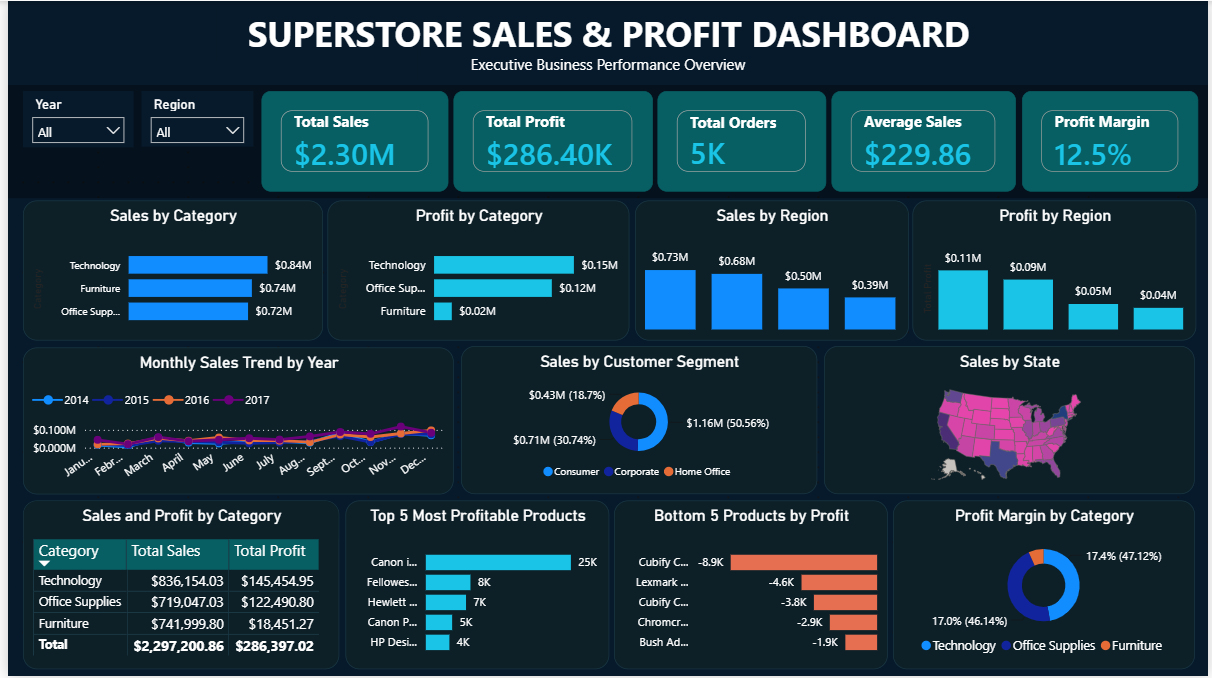

The page's visual inventory and layout, read from the dashboard file:
{"tool":"powerbi","page":{"name":"Sales and Profit Dashboard","canvas":[1280,720],"ordinal":0},"visuals":[{"type":"shape","box":[0,1.4,1279.7,97.3],"z":0},{"type":"shape","box":[0,89.3,1280,120.6],"z":1000},{"type":"cardVisual","fields":{"Data":["Sample - Superstore.Total Sales"]},"box":[270.2,95.3,199.1,107.4],"z":2000},{"type":"cardVisual","fields":{"Data":["Sample - Superstore.Total Orders"]},"box":[692.5,95.3,179.8,107.4],"z":3000},{"type":"cardVisual","fields":{"Data":["Sample - Superstore.Average Sales"]},"box":[878.3,95.3,196.6,107.4],"z":4000},{"type":"cardVisual","fields":{"Data":["Sample - Superstore.Profit Margin"]},"box":[1080,98,188.2,107.4],"z":5000},{"type":"cardVisual","fields":{"Data":["Sample - Superstore.Total Profit"]},"box":[475.3,95.3,212.3,107.4],"z":6000},{"type":"clusteredBarChart","title":"Sales by Category","fields":{"Category":["Sample - Superstore.Category"],"Y":["Sample - Superstore.Total Sales"]},"box":[15.7,213.5,319.7,149.6],"z":7000},{"type":"clusteredBarChart","title":"Profit by Category","fields":{"Category":["Sample - Superstore.Category"],"Y":["Sample - Superstore.Total Profit"]},"box":[340.2,213.5,322.1,149.6],"z":8000},{"type":"clusteredColumnChart","title":"Sales by Region","fields":{"Category":["Sample - Superstore.Region"],"Y":["Sample - Superstore.Total Sales"]},"box":[668.4,212.3,292,149.6],"z":9000},{"type":"clusteredColumnChart","title":"Profit by Region","fields":{"Category":["Sample - Superstore.Region"],"Y":["Sample - Superstore.Total Profit"]},"box":[965.2,213.5,302.8,149.6],"z":10000},{"type":"lineChart","title":"Monthly Sales Trend by Year","fields":{"Y":["Sample - Superstore.Total Sales"],"Series":["Sample - Superstore.Year"],"Category":["Sample - Superstore.Month Name"]},"box":[15.7,369.2,459.7,156.8],"z":11000},{"type":"donutChart","title":"Sales by Customer Segment","fields":{"Category":["Sample - Superstore.Segment"],"Y":["Sample - Superstore.Total Sales"]},"box":[482.8,368.8,379.7,157.8],"z":12000},{"type":"shapeMap","title":"Sales by State","fields":{"Category":["Sample - Superstore.State"],"Value":["Sample - Superstore.Total Sales"]},"box":[870.3,368.8,395.3,157.8],"z":13000},{"type":"pivotTable","title":"Sales and Profit by Category","fields":{"Rows":["Sample - Superstore.Category"],"Values":["Sample - Superstore.Total Sales","Sample - Superstore.Total Profit"]},"box":[15.6,532.8,337.5,179.7],"z":14000},{"type":"slicer","title":"Year","fields":{"Values":["Dates.Year"]},"box":[15.7,95.3,118.2,60.3],"z":15000},{"type":"textbox","title":"SUPERSTORE SALES & PROFIT DASHBOARD","box":[221.6,2.7,836.5,62.2],"z":16000},{"type":"textbox","title":"Executive Business Performance Overview | 2014–2017","box":[436.7,51.9,406.6,33.8],"z":17000},{"type":"slicer","fields":{"Values":["Sample - Superstore.Region"]},"box":[142.4,95.3,119.4,59.1],"z":18000},{"type":"clusteredBarChart","title":"Top 5 Most Profitable Products","fields":{"Category":["Sample - Superstore.Product Name"],"Y":["Sum(Sample - Superstore.Profit)"]},"box":[359.4,532.8,281.3,179.7],"z":19000},{"type":"clusteredBarChart","title":"Bottom 5 Products by Profit","fields":{"Category":["Sample - Superstore.Product Name"],"Y":["Sum(Sample - Superstore.Profit)"]},"box":[646.9,532.8,292.2,179.7],"z":20000},{"type":"donutChart","fields":{"Category":["Sample - Superstore.Category"],"Y":["Sample - Superstore.Profit Margin"]},"box":[943.8,532.8,321.9,179.7],"z":21000}]}

Visuals, with their boxes in screenshot pixels (x1, y1, x2, y2), scaled from the page's 1280x720 canvas onto the 1212x678 screenshot:
shape: bbox=[0, 1, 1211, 93]
shape: bbox=[0, 84, 1211, 198]
cardVisual - Sample - Superstore.Total Sales: bbox=[256, 90, 444, 191]
cardVisual - Sample - Superstore.Total Orders: bbox=[656, 90, 826, 191]
cardVisual - Sample - Superstore.Average Sales: bbox=[832, 90, 1018, 191]
cardVisual - Sample - Superstore.Profit Margin: bbox=[1023, 92, 1201, 193]
cardVisual - Sample - Superstore.Total Profit: bbox=[450, 90, 651, 191]
"Sales by Category" clusteredBarChart: bbox=[15, 201, 318, 342]
"Profit by Category" clusteredBarChart: bbox=[322, 201, 627, 342]
"Sales by Region" clusteredColumnChart: bbox=[633, 200, 909, 341]
"Profit by Region" clusteredColumnChart: bbox=[914, 201, 1201, 342]
"Monthly Sales Trend by Year" lineChart: bbox=[15, 348, 450, 495]
"Sales by Customer Segment" donutChart: bbox=[457, 347, 817, 496]
"Sales by State" shapeMap: bbox=[824, 347, 1198, 496]
"Sales and Profit by Category" pivotTable: bbox=[15, 502, 334, 671]
"Year" slicer: bbox=[15, 90, 127, 147]
"SUPERSTORE SALES & PROFIT DASHBOARD" textbox: bbox=[210, 3, 1002, 61]
"Executive Business Performance Overview | 2014–2017" textbox: bbox=[414, 49, 798, 81]
slicer - Sample - Superstore.Region: bbox=[135, 90, 248, 145]
"Top 5 Most Profitable Products" clusteredBarChart: bbox=[340, 502, 607, 671]
"Bottom 5 Products by Profit" clusteredBarChart: bbox=[613, 502, 889, 671]
donutChart - Sample - Superstore.Category x Sample - Superstore.Profit Margin: bbox=[894, 502, 1198, 671]
